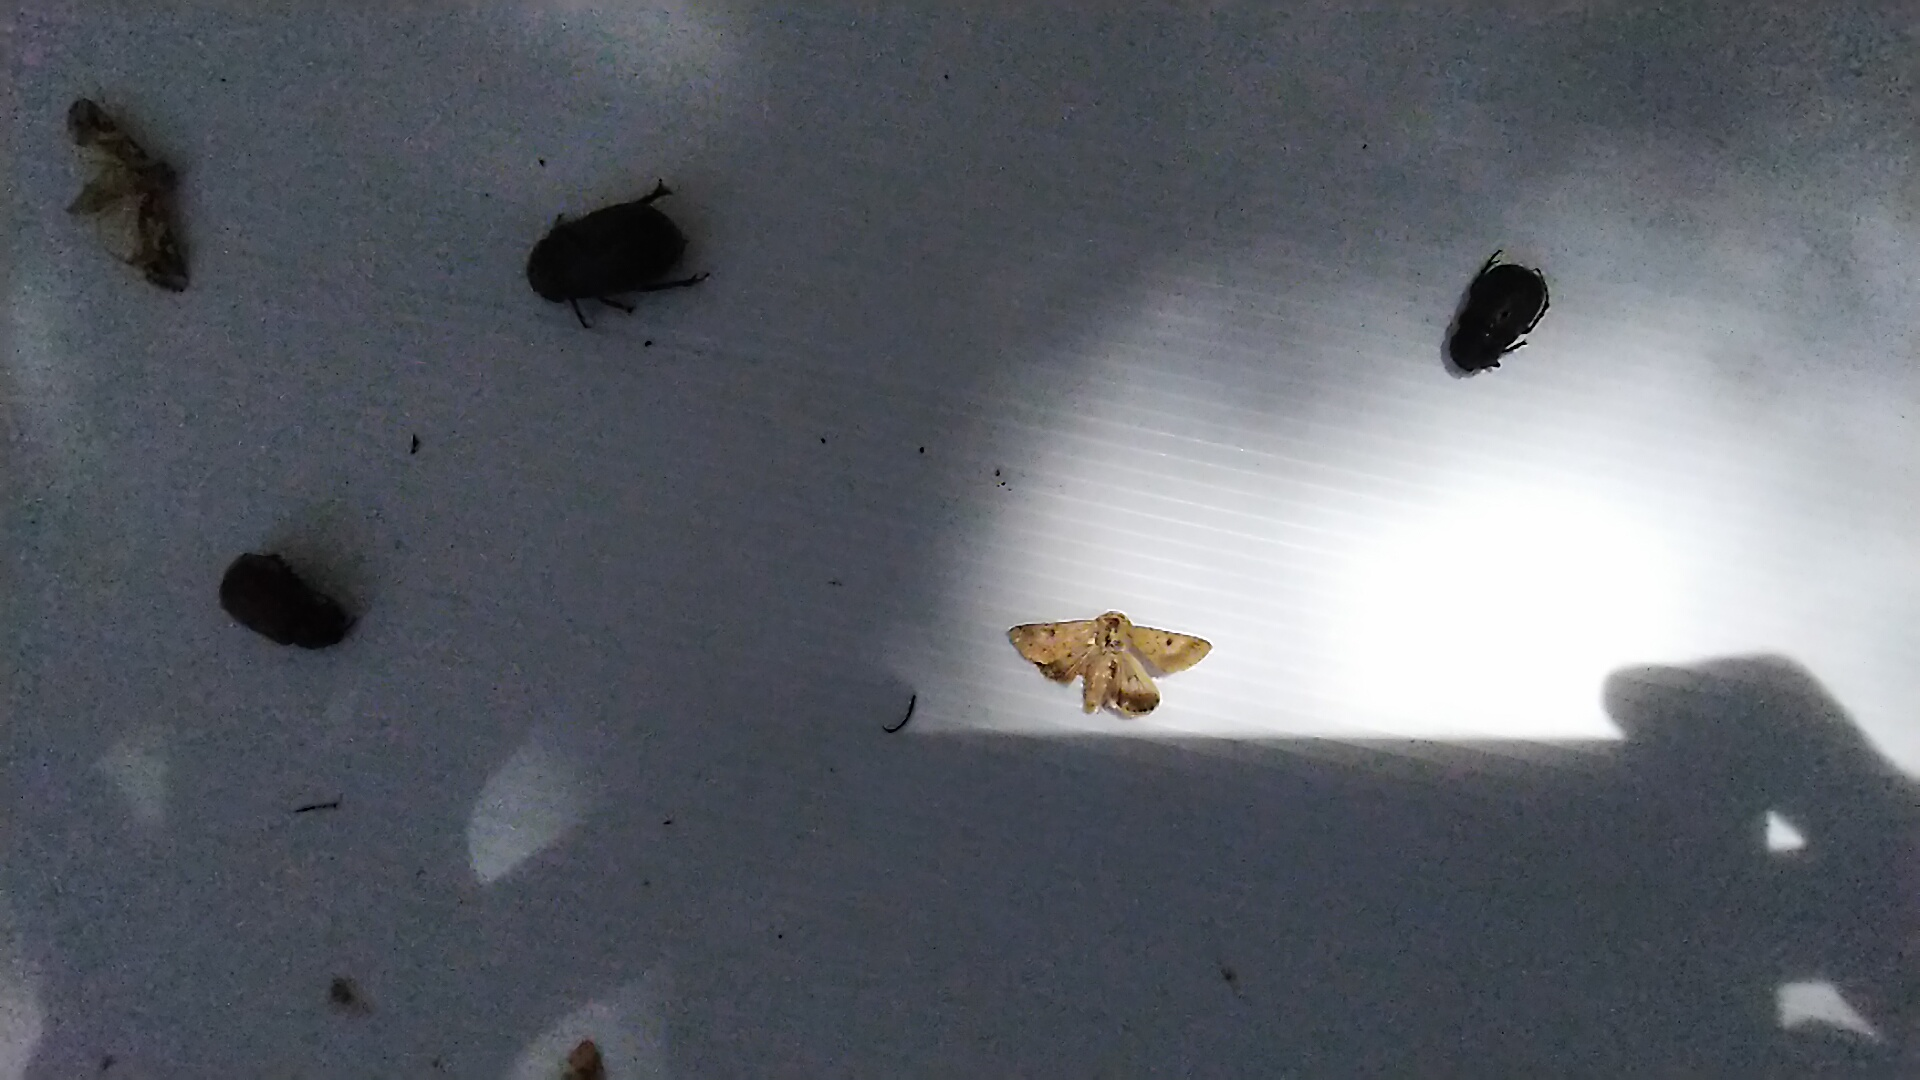INS-A: (527, 169, 720, 338), (210, 538, 367, 663), (1437, 233, 1560, 378)
INS-B: (41, 74, 202, 307)
INS-C: (993, 607, 1222, 719)
